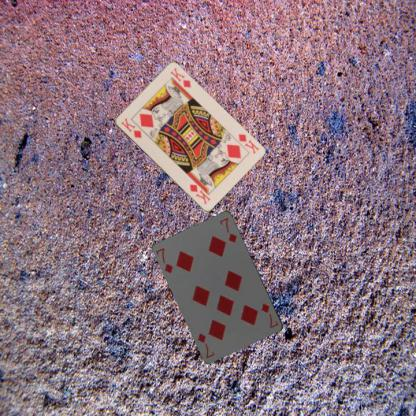7d: (258, 300, 280, 330), (154, 245, 175, 274)
Kd: (235, 131, 261, 156), (118, 115, 143, 139)
